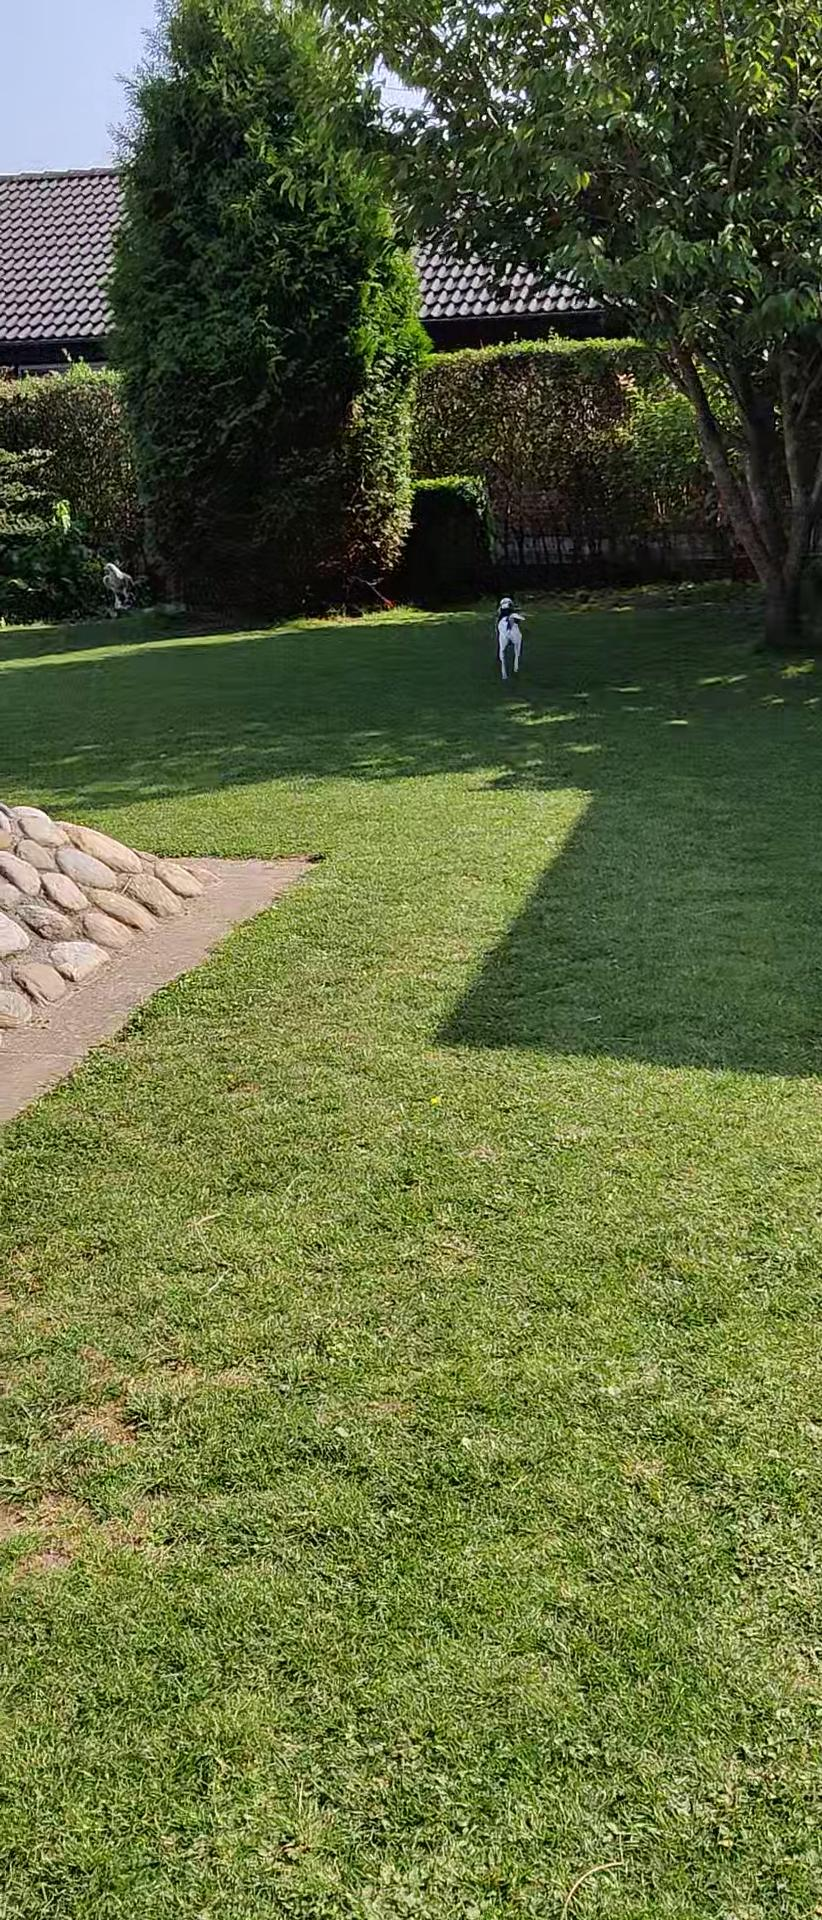Dog: (477, 583, 538, 683)
